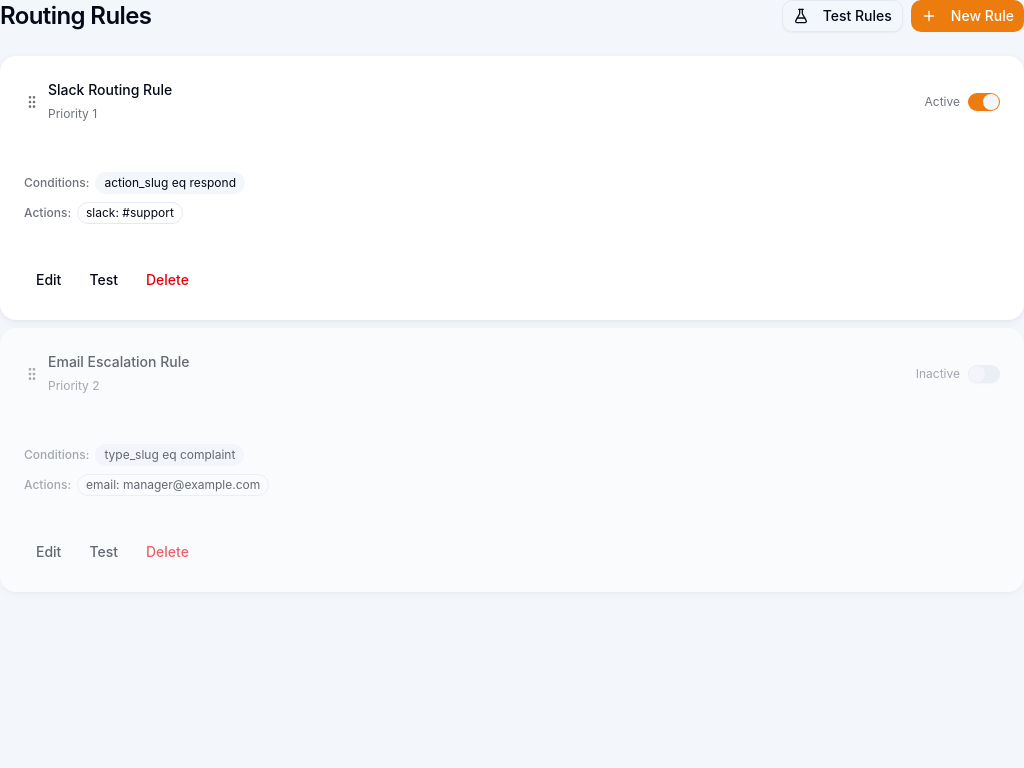
Test: RoutingRulesPage › clicking Delete button shows confirmation dialog
Click the button with aria-label "delete slack routing rule": click(167, 280) [134,264,201,296]
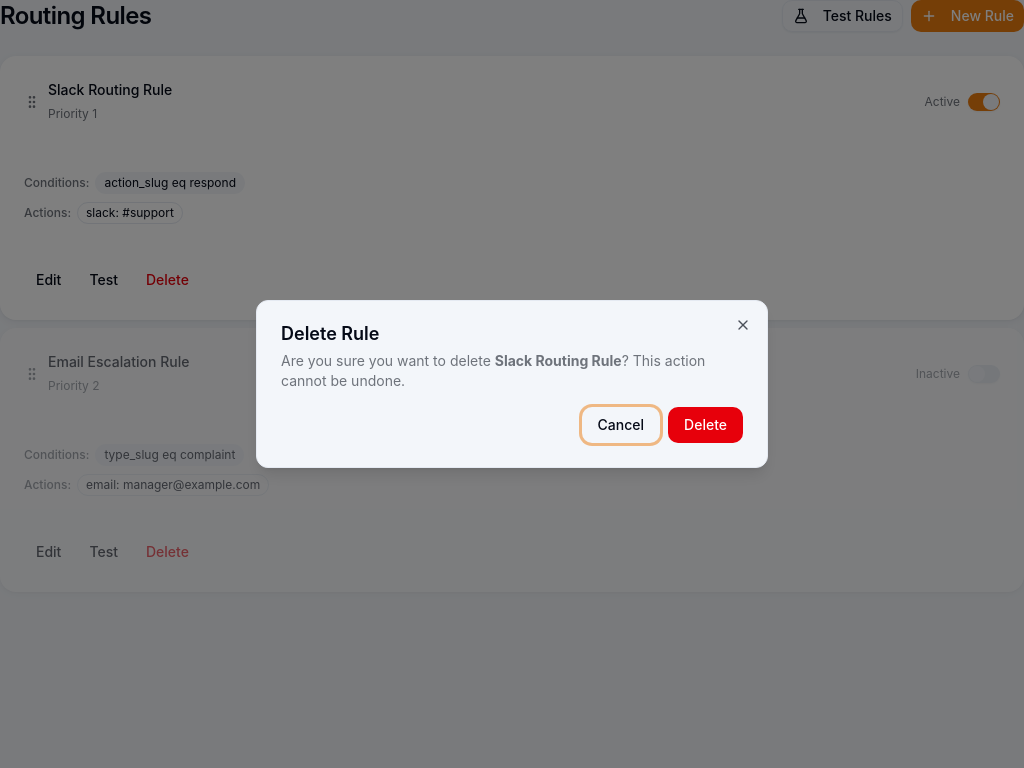
Expected: the dialog is shown, [256,300,768,468]
Expected: the text "Are you sure you want to delete" is shown, [281,352,495,369]
